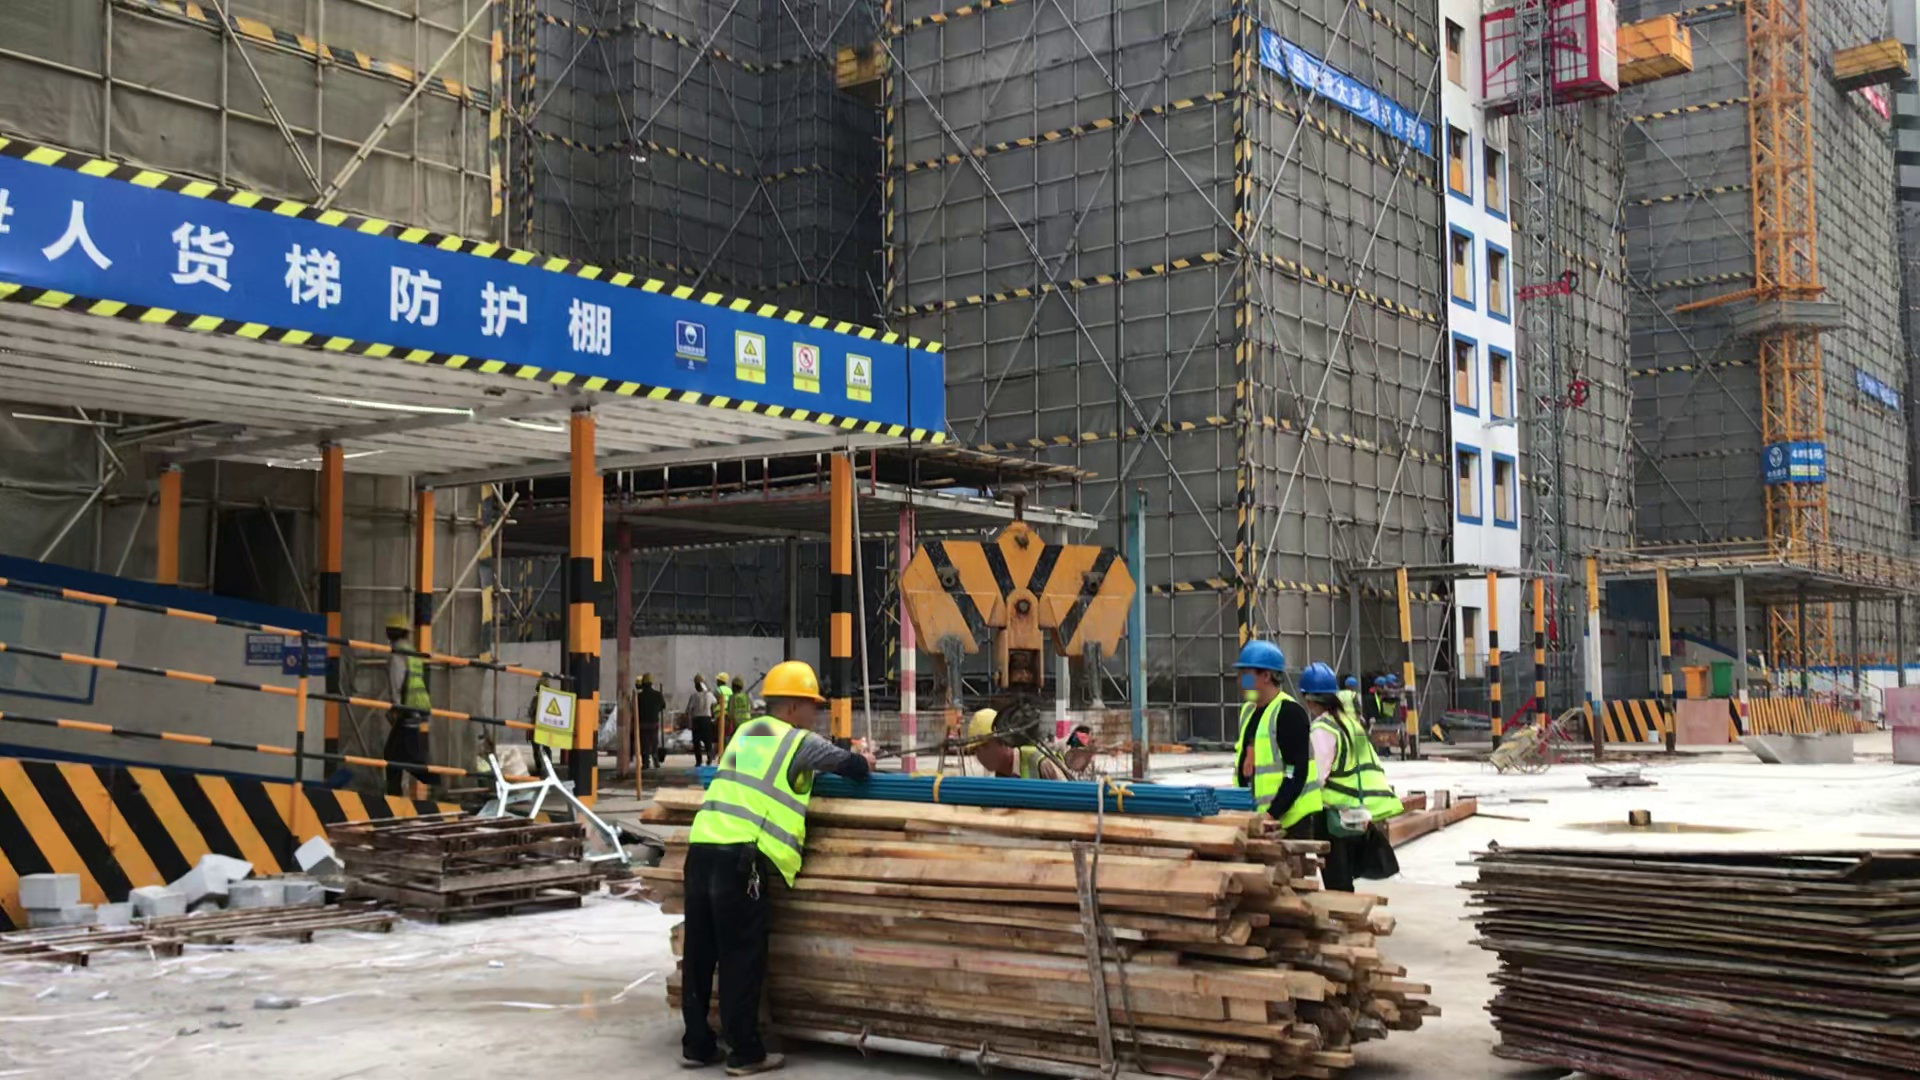board: (1456, 833, 1920, 1075)
helmet: (752, 663, 831, 711), (962, 710, 1014, 748), (1236, 638, 1291, 673), (1300, 660, 1336, 697), (1377, 669, 1405, 689), (708, 672, 743, 688), (387, 614, 417, 631), (631, 674, 655, 688), (1345, 675, 1359, 691)
hook: (896, 509, 1141, 692)
hopper: (1731, 721, 1862, 768)
person: (681, 660, 879, 1080), (1292, 658, 1404, 900), (1228, 637, 1331, 860), (380, 606, 449, 798), (959, 699, 1069, 791), (630, 672, 666, 778), (691, 668, 718, 775), (714, 674, 758, 735), (1342, 669, 1367, 727), (1379, 671, 1404, 719)
slogan: (11, 140, 942, 467), (1254, 34, 1435, 157)
vest: (685, 707, 813, 888), (1230, 690, 1400, 822)
wood: (650, 770, 1445, 1080)
